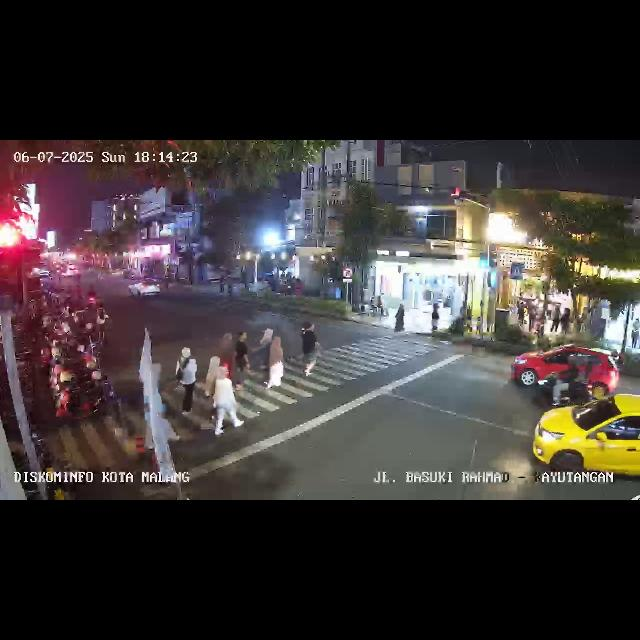car: (532, 403, 640, 492), (512, 344, 618, 396), (126, 278, 162, 300)
motorcycle: (536, 357, 606, 408)
person: (212, 366, 244, 434), (176, 345, 198, 423), (299, 321, 321, 379), (206, 356, 224, 422), (234, 330, 250, 390), (268, 337, 284, 387), (260, 328, 272, 372), (394, 302, 406, 334), (560, 305, 572, 335), (526, 298, 536, 332), (430, 303, 440, 335), (550, 303, 560, 335), (518, 299, 526, 333), (220, 276, 232, 296), (631, 326, 639, 348)
